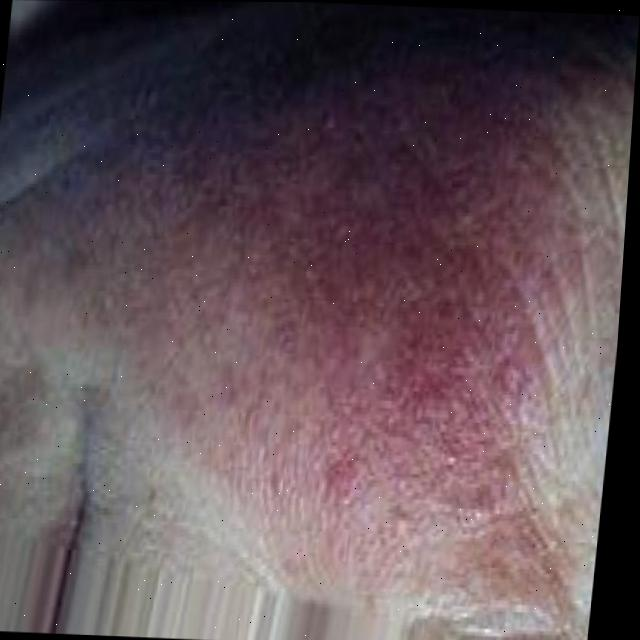Rosacea: (133, 95, 615, 598)
